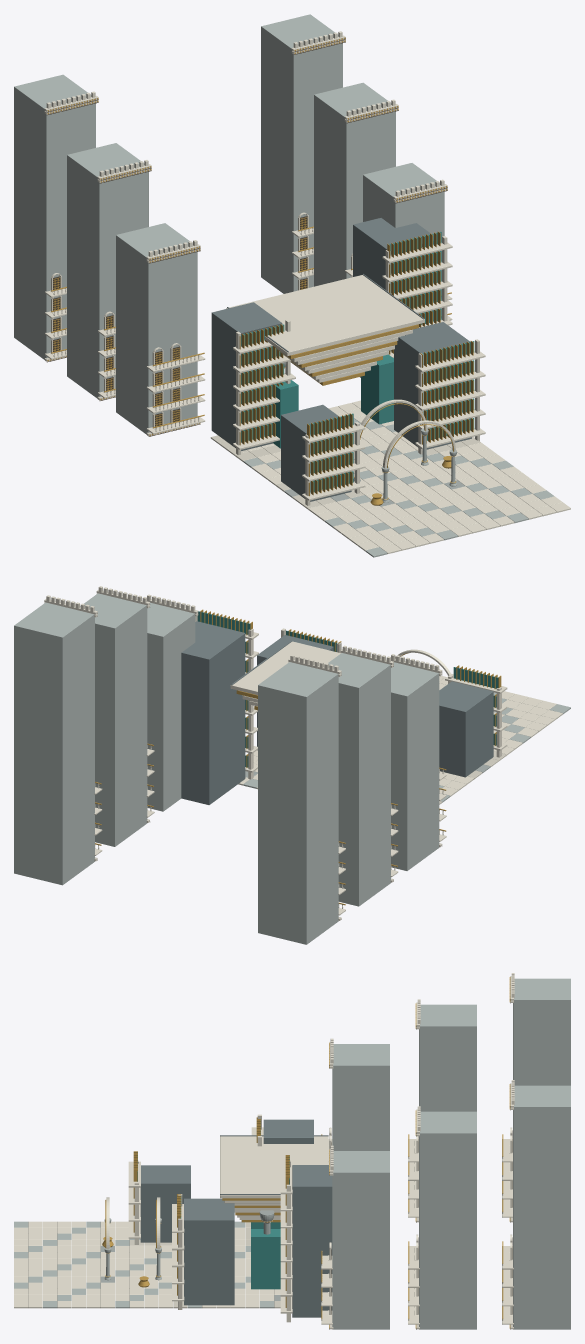
The model's file is complex.glb.
The picture shows the model from 3 angles, top to bottom: view 1: azimuth 30°, elevation 25°; view 2: azimuth 150°, elevation 25°; view 3: azimuth 270°, elevation 25°; orthographic projection. The views are drawn at different scales.
Parts seen in each view (by area): view 1: Preview_complex; view 2: Preview_complex; view 3: Preview_complex.
Part boxes in pixels (x1,y1,x2,y2): Preview_complex: (14,14,570,557); Preview_complex: (14,586,570,944); Preview_complex: (14,973,570,1329).
Size of the model in its own units: 42.4 by 35.3 by 76.99.
